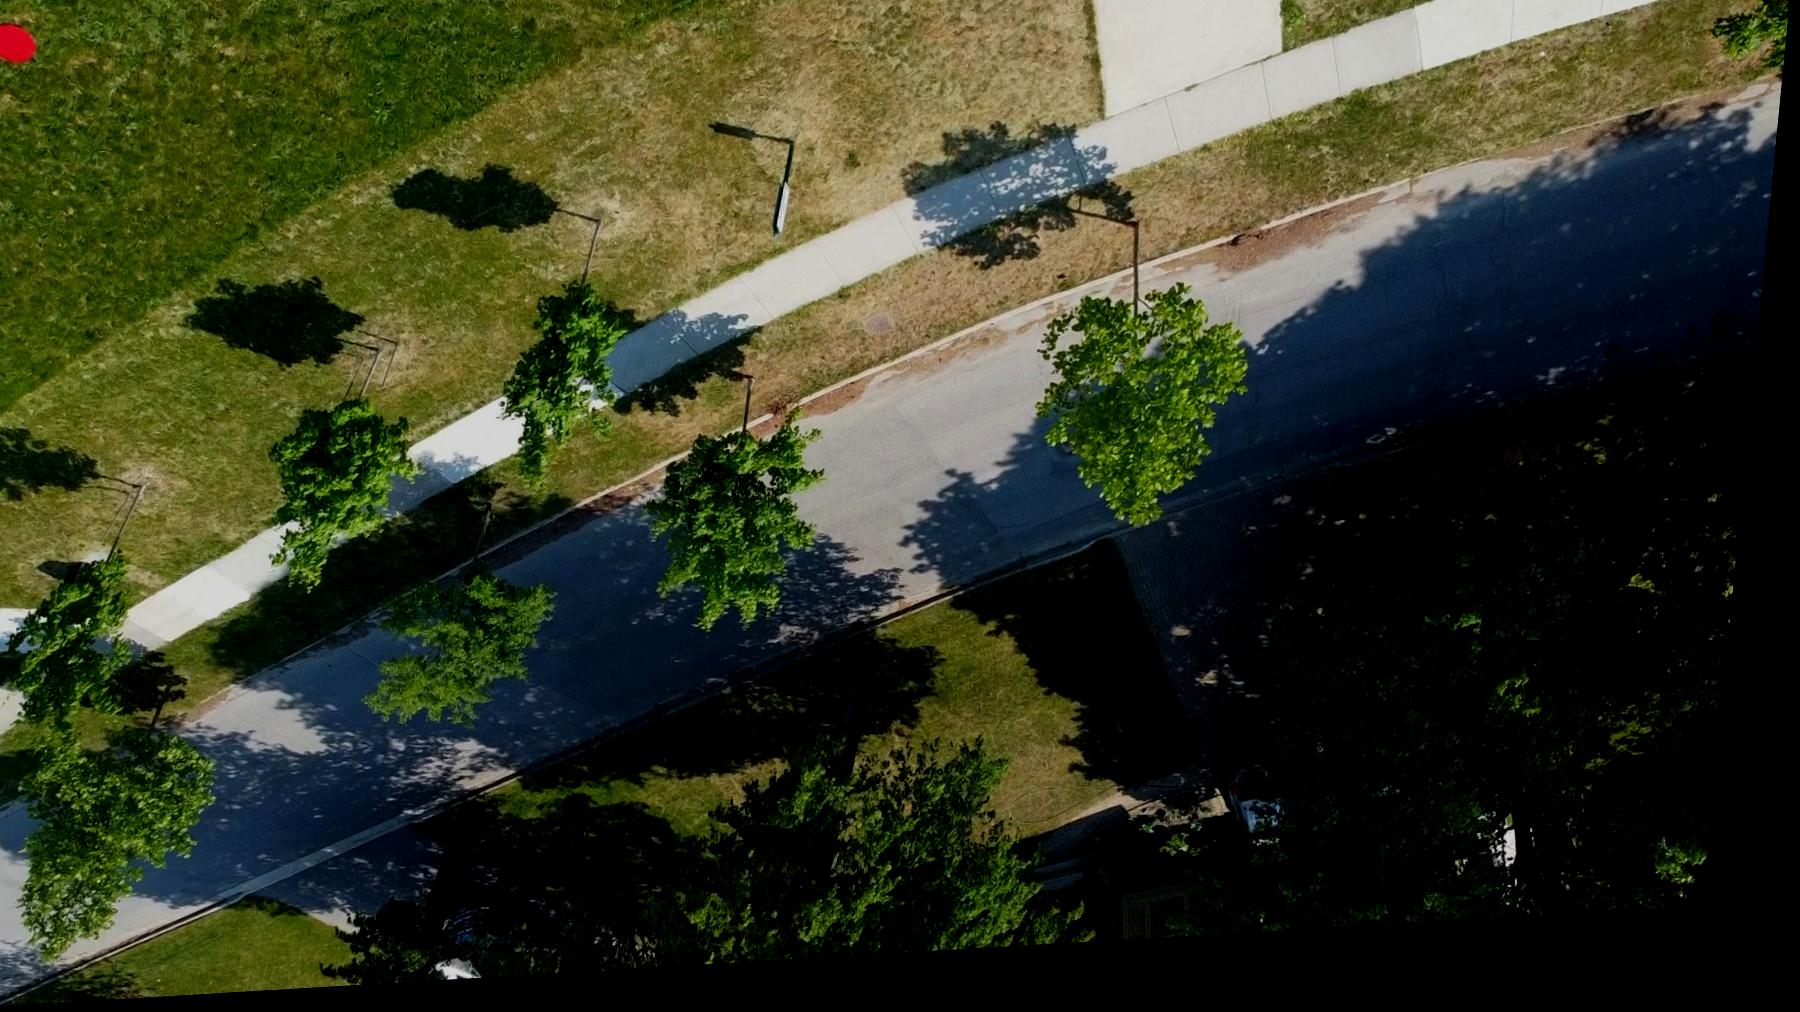Red: (0, 23, 40, 65)
